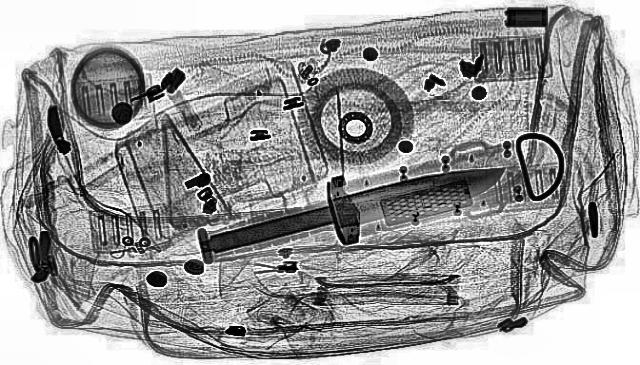Knife: (157, 137, 536, 284)
